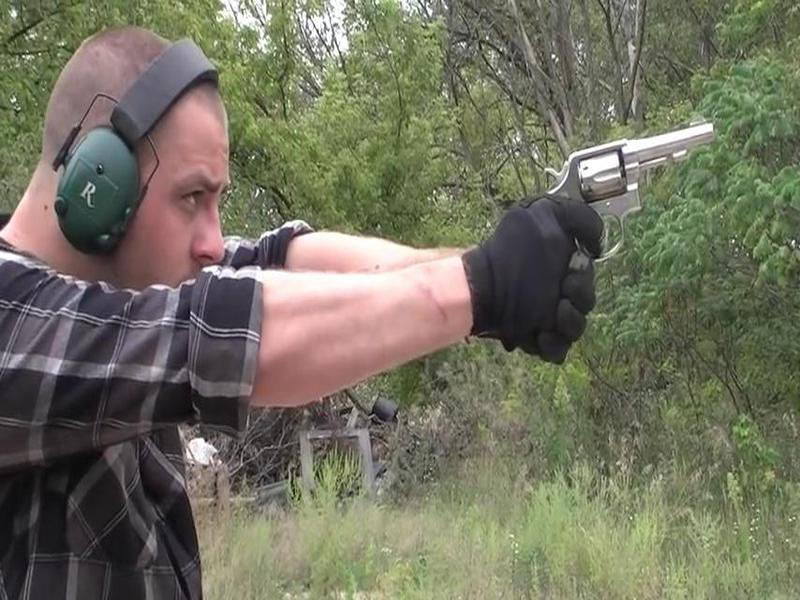Revolver: (522, 86, 724, 268)
